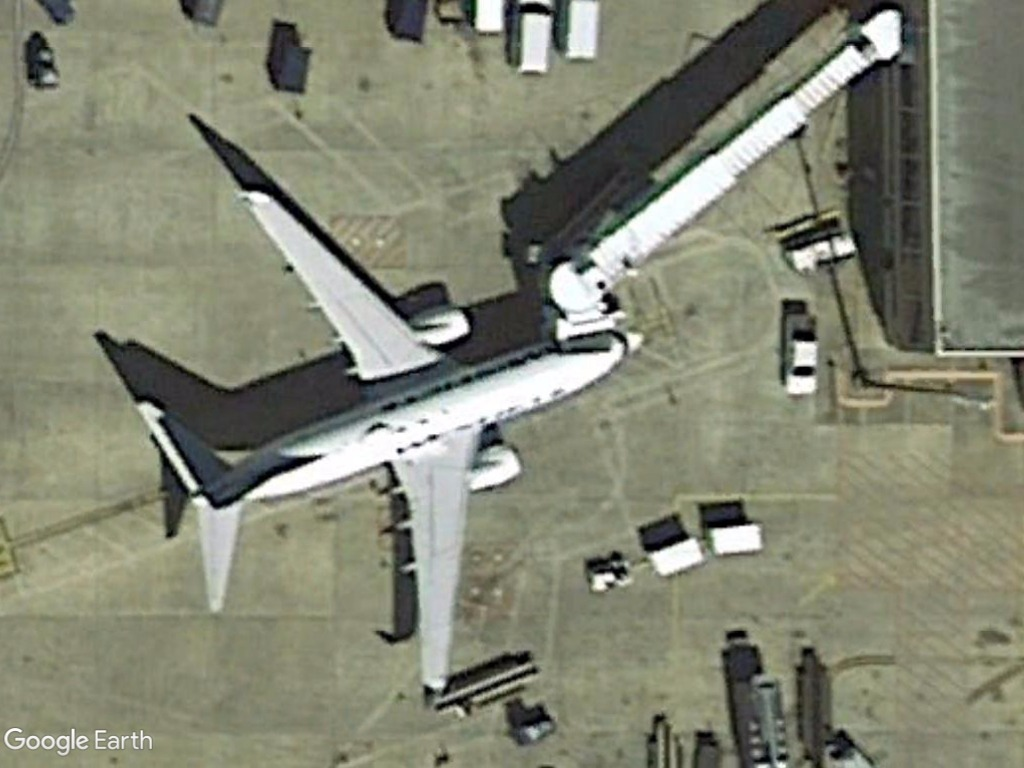airliner: (134, 181, 650, 700)
other: (778, 302, 823, 402)
